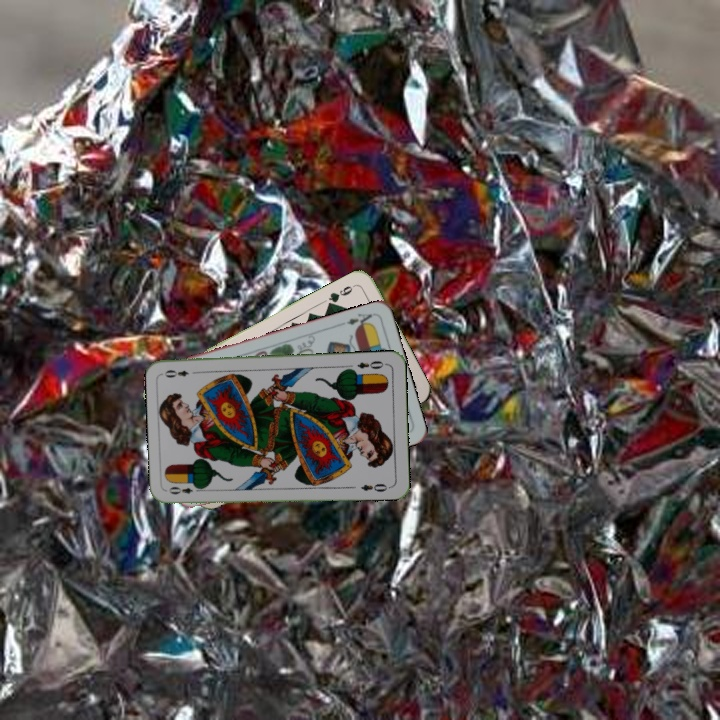EA: (336, 309, 376, 331)
EO: (165, 482, 205, 497), (353, 357, 389, 372)
G9: (324, 280, 360, 308)
